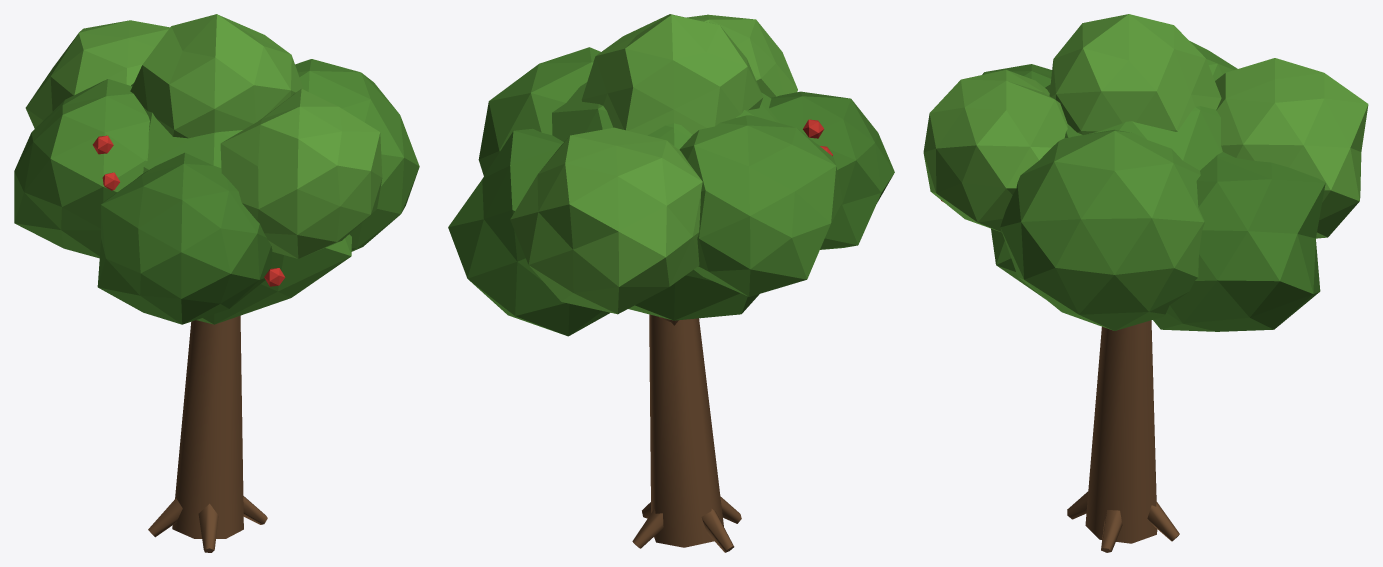
File: tree_apple_1.glb
3 renders of one model, left to right at view 1: azimuth 30°, elevation 25°; view 2: azimuth 150°, elevation 25°; view 3: azimuth 270°, elevation 25°, orthographic. The views are drawn at different scales.
Parts seen in each view (by area): view 1: crown, trunk; view 2: crown, trunk; view 3: crown, trunk.
Part boxes in pixels (x1,y1,x2,y2): crown: (14, 14, 419, 324); trunk: (148, 315, 267, 552); crown: (448, 14, 894, 336); trunk: (632, 314, 741, 552); crown: (923, 14, 1368, 331); trunk: (1067, 320, 1179, 552).
Size of the model in its own units: 1.69 by 2.32 by 1.79.
